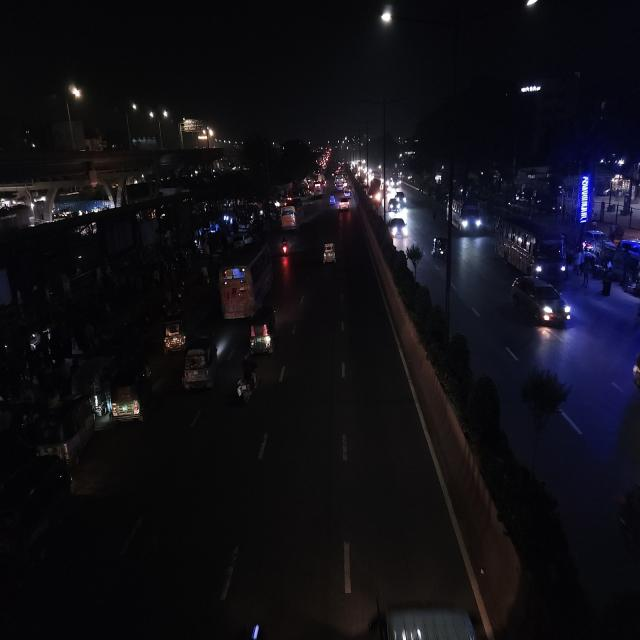bus: (492, 212, 570, 281), (217, 238, 275, 320), (451, 196, 483, 237), (281, 200, 298, 231)
car: (360, 599, 492, 640), (509, 274, 574, 332), (387, 216, 408, 239), (337, 195, 351, 212), (395, 190, 407, 207), (388, 200, 400, 217)
cng: (30, 392, 98, 467), (108, 358, 154, 429), (180, 333, 219, 397), (248, 304, 278, 357), (160, 312, 188, 354), (321, 238, 337, 266), (432, 235, 448, 262), (328, 193, 337, 208)
motorcycle: (233, 353, 260, 410), (279, 236, 291, 258)
